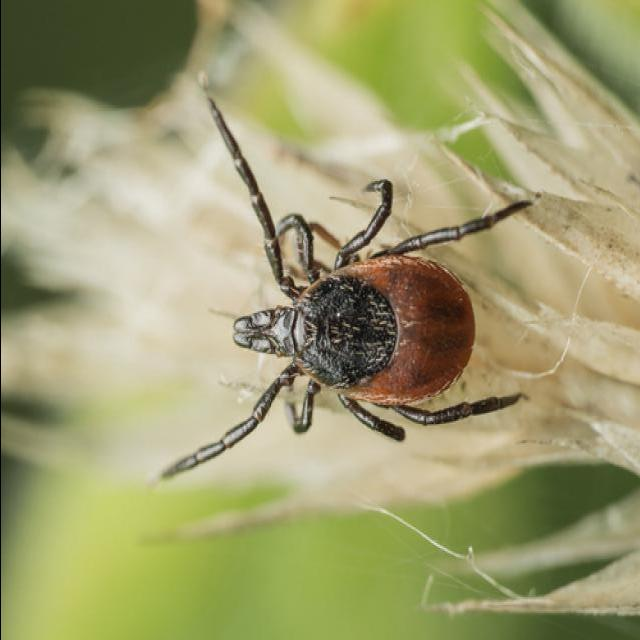Ixodes Ricinus-F: (160, 97, 532, 476)
